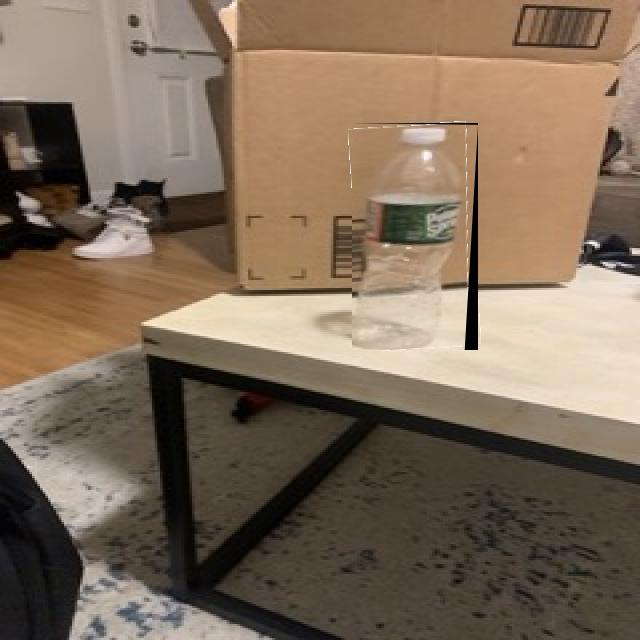water_bottle: (352, 123, 478, 350)
